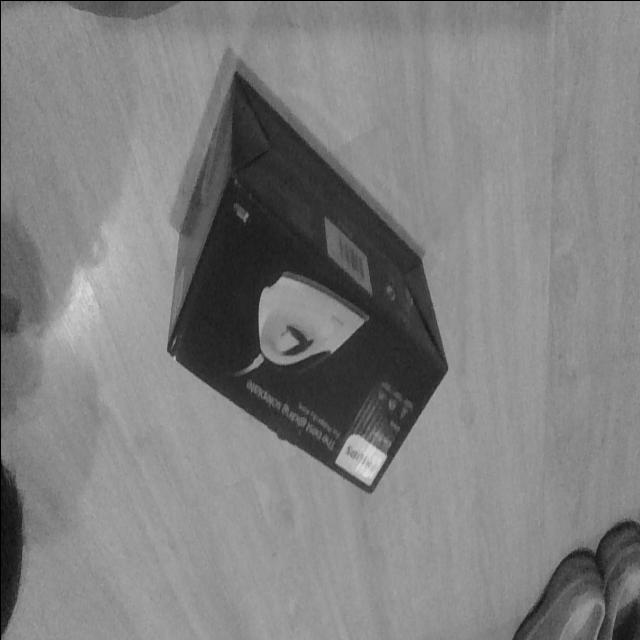IRON: (164, 61, 450, 497)
